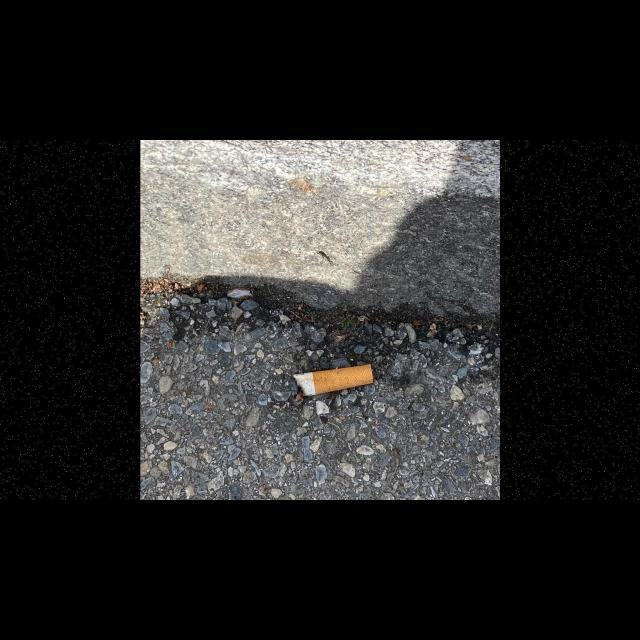cigarette: (292, 362, 374, 397)
